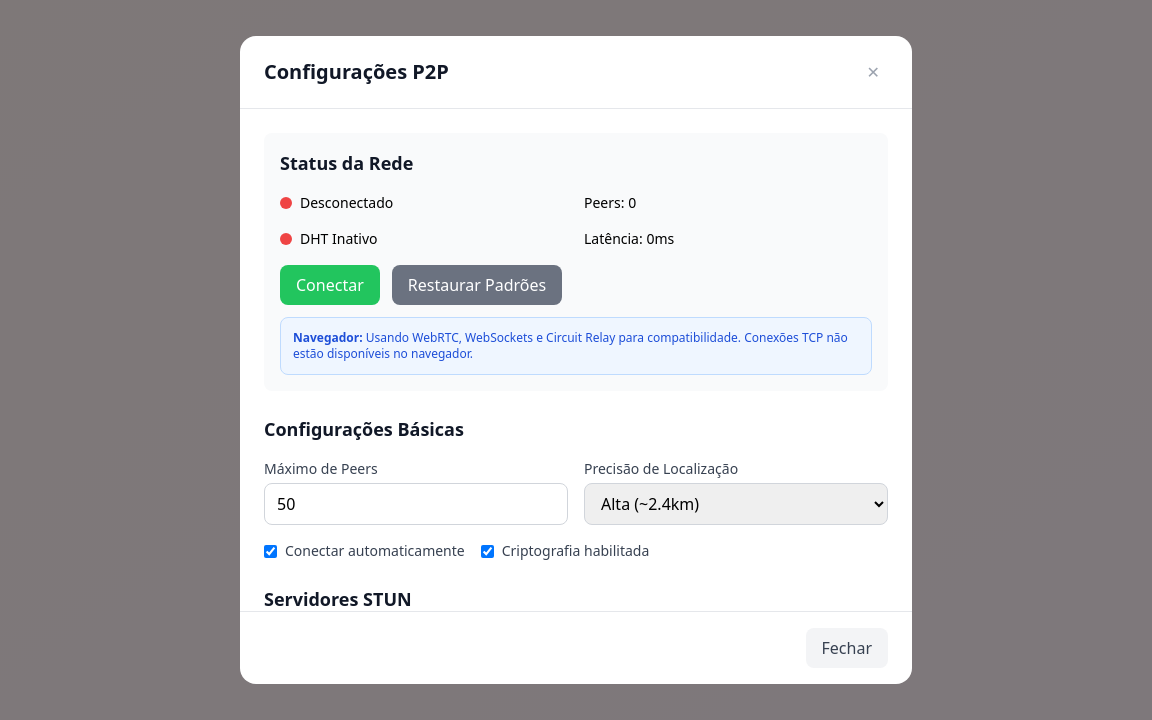
P2PConfigPanel › shows connection error when connection fails
Click the button "Conectar". click: (330, 285)
box: [280,265,380,305]
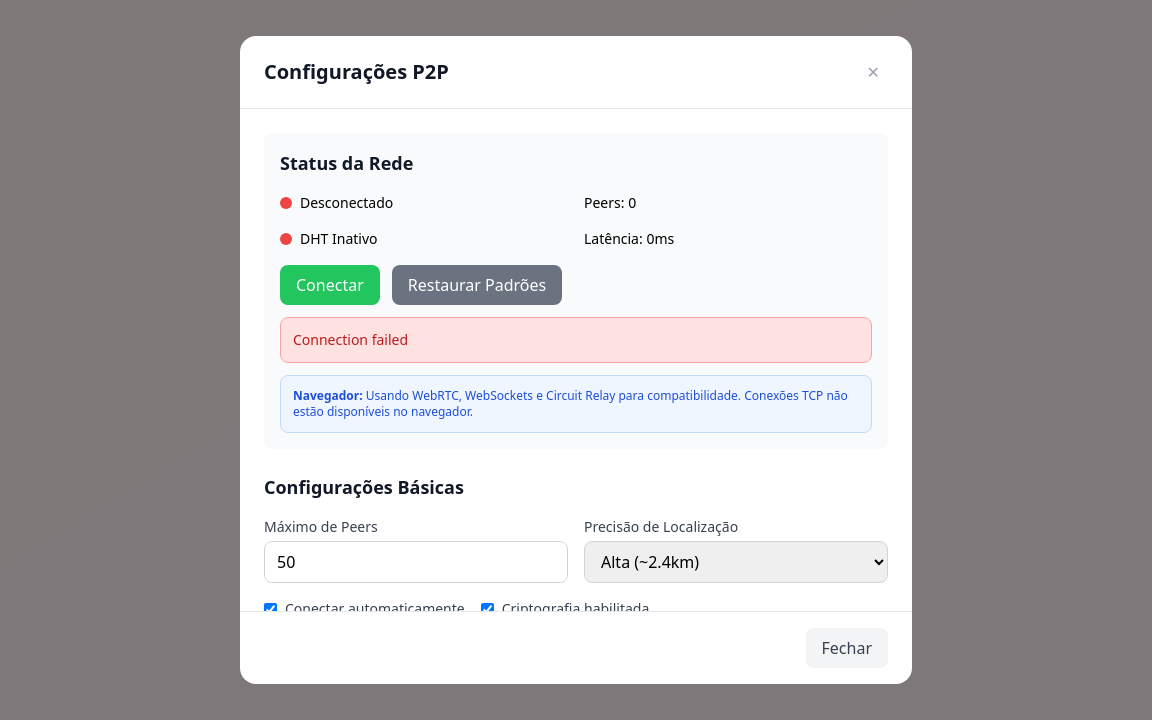
Now the text "Connection failed" is shown, box [293,330,408,349]
